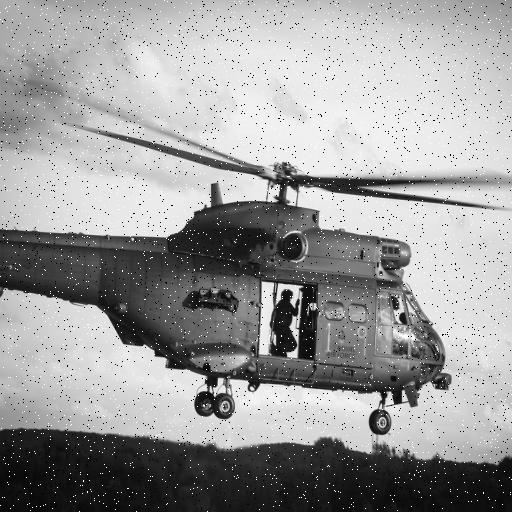helicopter: (1, 131, 498, 435)
